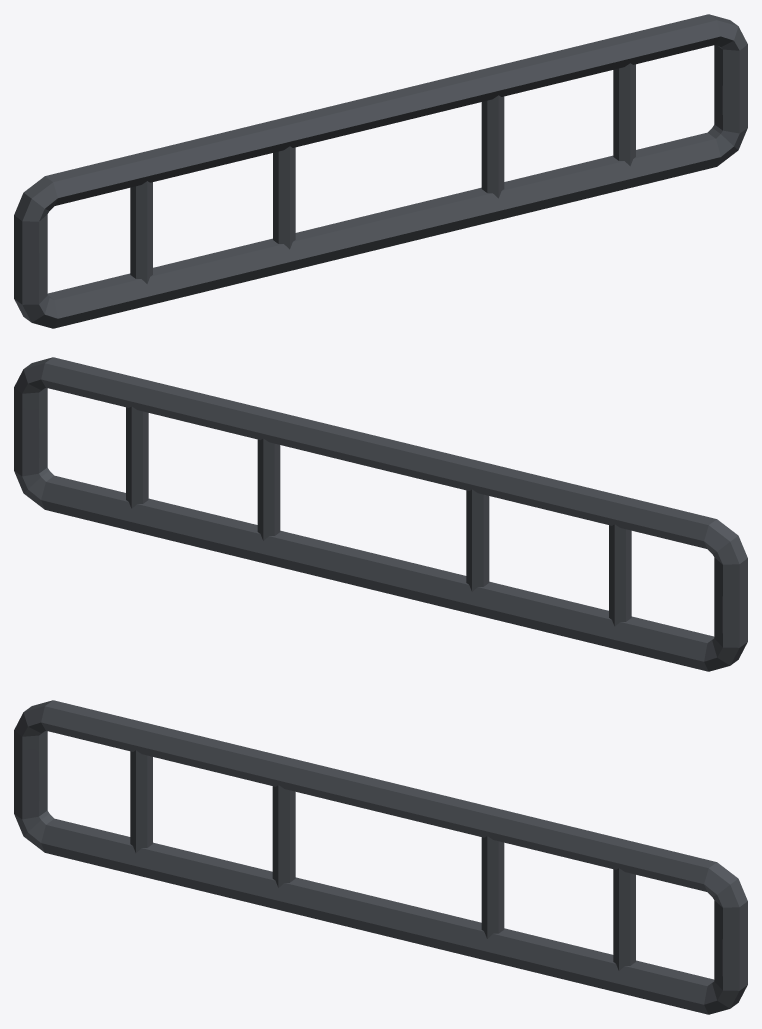
The model's file is SM_Veh_Kart_01_Rear_Bumper_01.fbx.
The picture shows the model from 3 angles, top to bottom: view 1: azimuth 30°, elevation 25°; view 2: azimuth 150°, elevation 25°; view 3: azimuth 330°, elevation 25°; orthographic projection.
Visible parts, largest first — view 1: SM_Veh_Kart_01_Rear_Bumper_01; view 2: SM_Veh_Kart_01_Rear_Bumper_01; view 3: SM_Veh_Kart_01_Rear_Bumper_01.
Part boxes in pixels (x1=…): SM_Veh_Kart_01_Rear_Bumper_01: x1=14, y1=14, x2=747, y2=328; SM_Veh_Kart_01_Rear_Bumper_01: x1=14, y1=357, x2=747, y2=671; SM_Veh_Kart_01_Rear_Bumper_01: x1=14, y1=700, x2=747, y2=1014.
Size of the model in its own units: 137 by 26.49 by 5.51.
